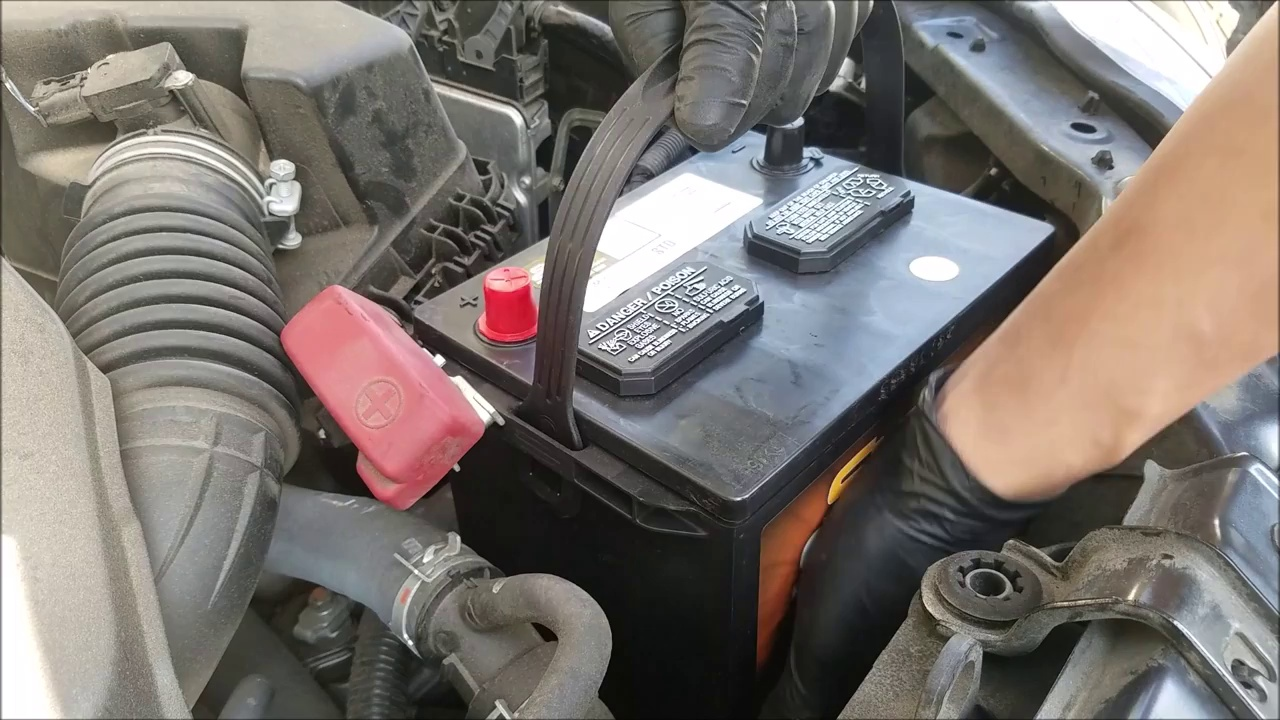battery: (391, 118, 1065, 506)
pos_disconnected: (297, 252, 571, 475)
